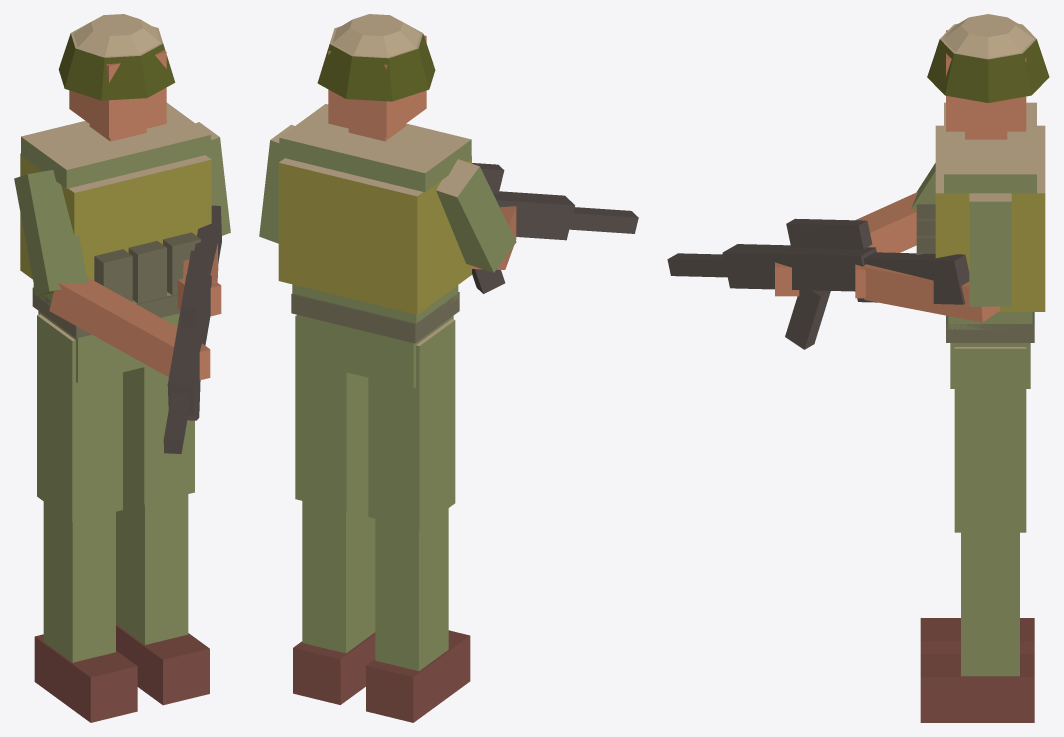
File: SM_SoldadoArmado_v2_G36E_Reposo_LOD1.fbx
3 views of the same model, side by side, from view 1: azimuth 30°, elevation 25°; view 2: azimuth 150°, elevation 25°; view 3: azimuth 270°, elevation 25° (orthographic).
Parts seen in each view (by area): view 1: SM_bloques.soldado_armado_v2_LOD1; view 2: SM_bloques.soldado_armado_v2_LOD1; view 3: SM_bloques.soldado_armado_v2_LOD1.
Part boxes in pixels (x1=…): SM_bloques.soldado_armado_v2_LOD1: x1=14, y1=14, x2=230, y2=722; SM_bloques.soldado_armado_v2_LOD1: x1=259, y1=14, x2=638, y2=722; SM_bloques.soldado_armado_v2_LOD1: x1=667, y1=14, x2=1049, y2=722.
Size of the model in its own units: 0.5846 by 1.75 by 0.9048.
